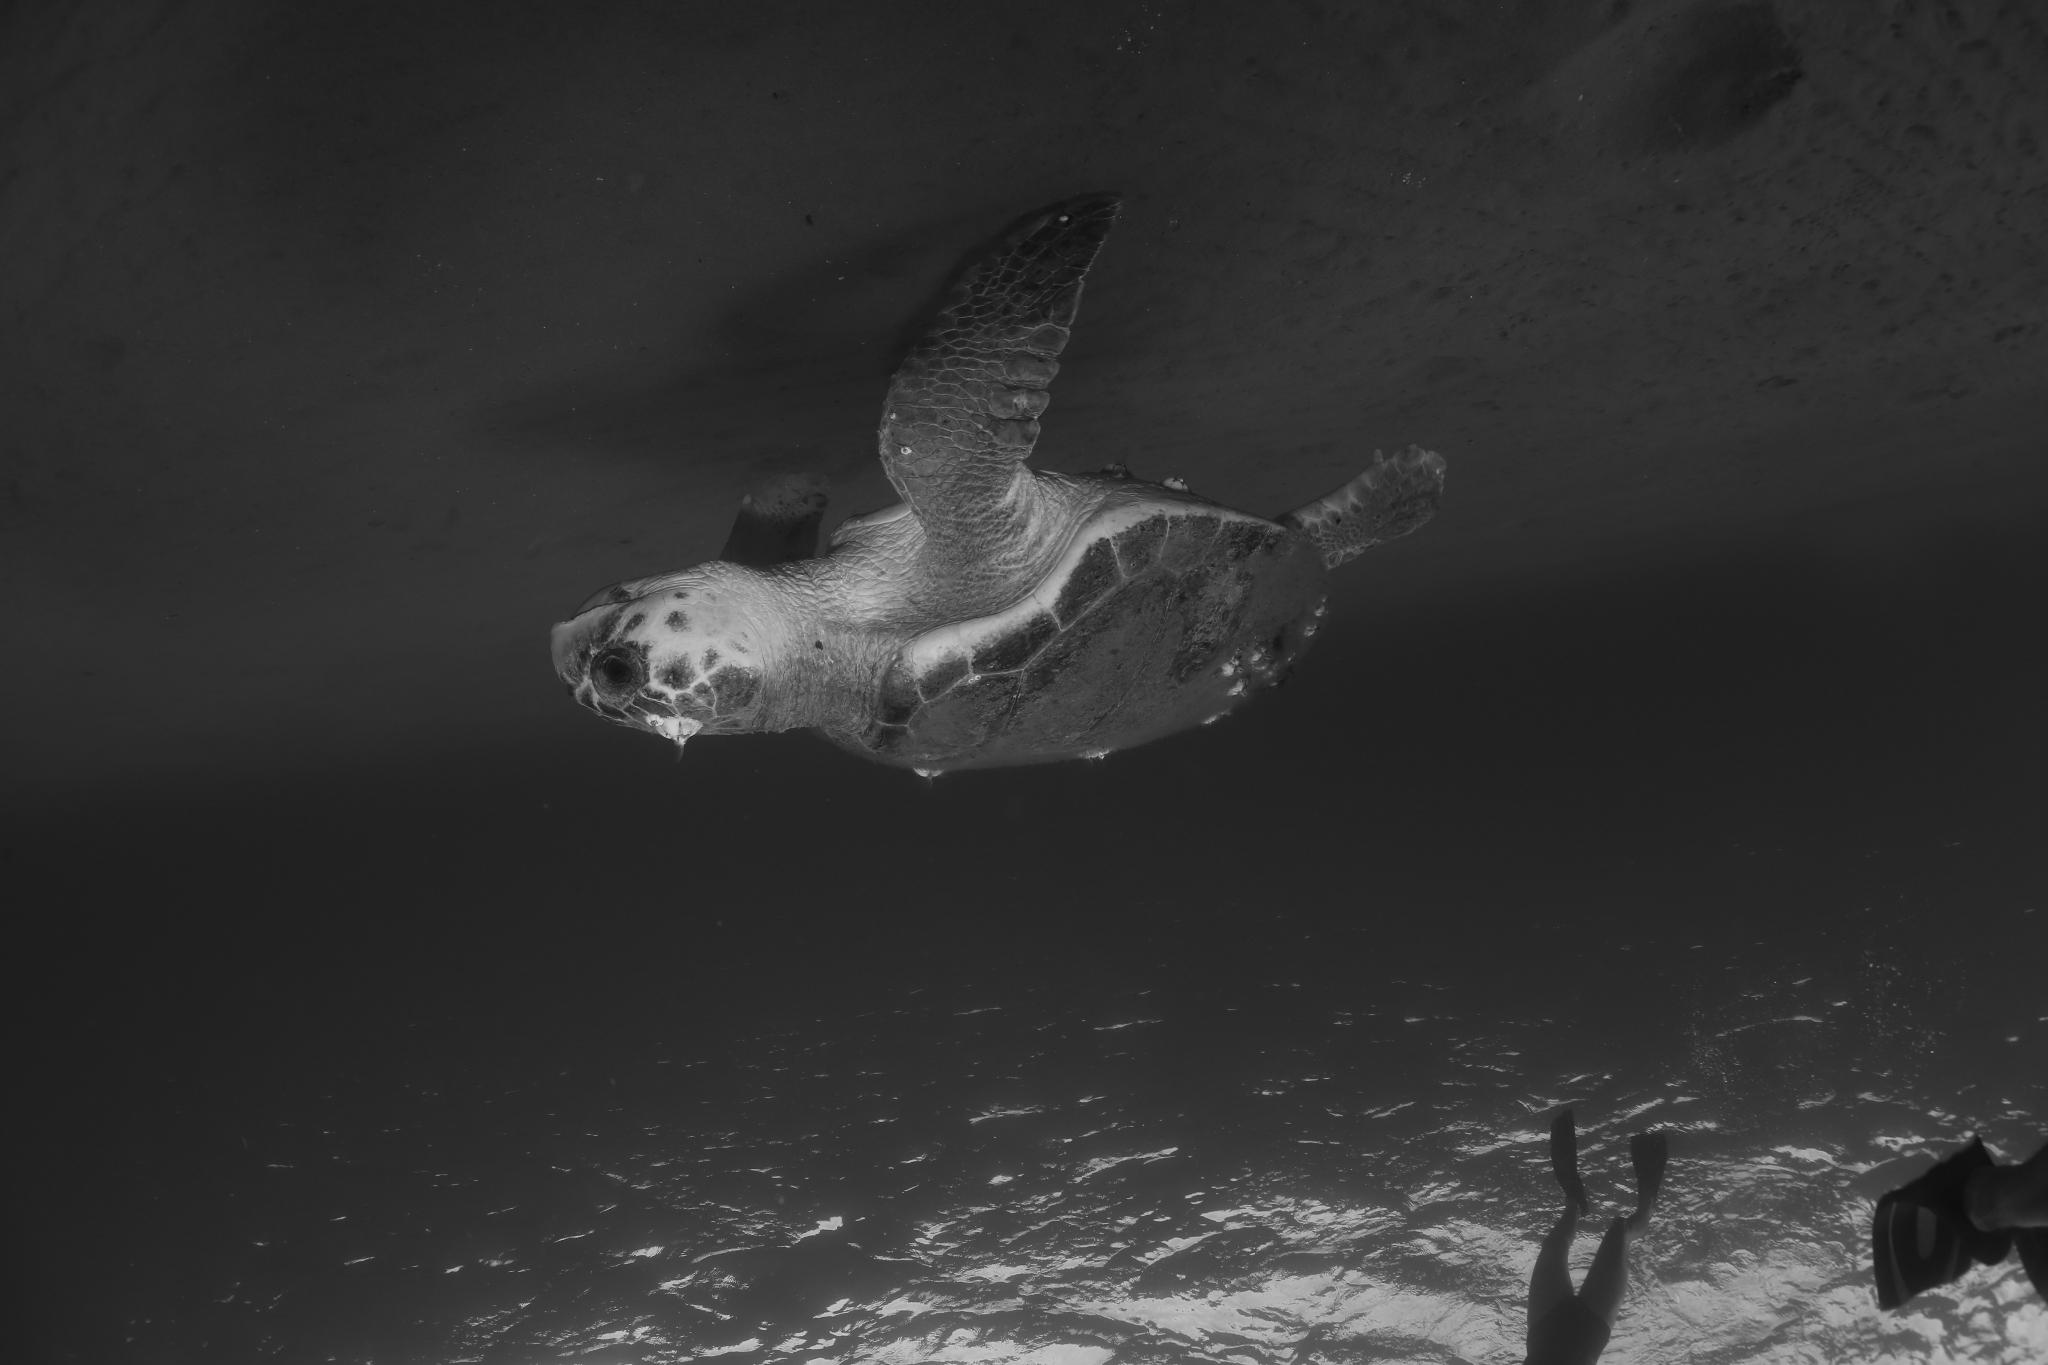Head: (552, 560, 814, 745)
